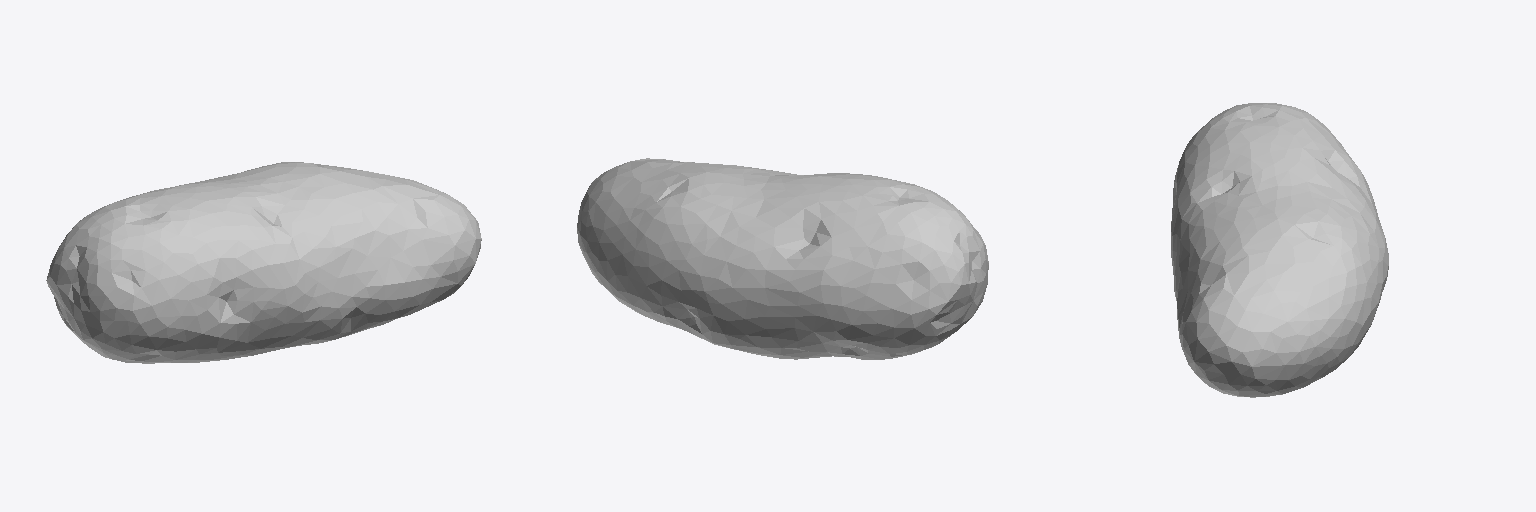
The model's file is russet-potato.obj.
The picture shows the model from 3 angles: view 1: azimuth 30°, elevation 25°; view 2: azimuth 150°, elevation 25°; view 3: azimuth 270°, elevation 25°; orthographic projection.
Parts seen in each view (by area): view 1: russet-potato; view 2: russet-potato; view 3: russet-potato.
Boxes of the visible parts, x1=… form: russet-potato: x1=46, y1=162, x2=481, y2=363; russet-potato: x1=577, y1=158, x2=988, y2=359; russet-potato: x1=1171, y1=103, x2=1388, y2=397.
Bounding box in the file's own units: 0.1687 × 0.0672 × 0.08.